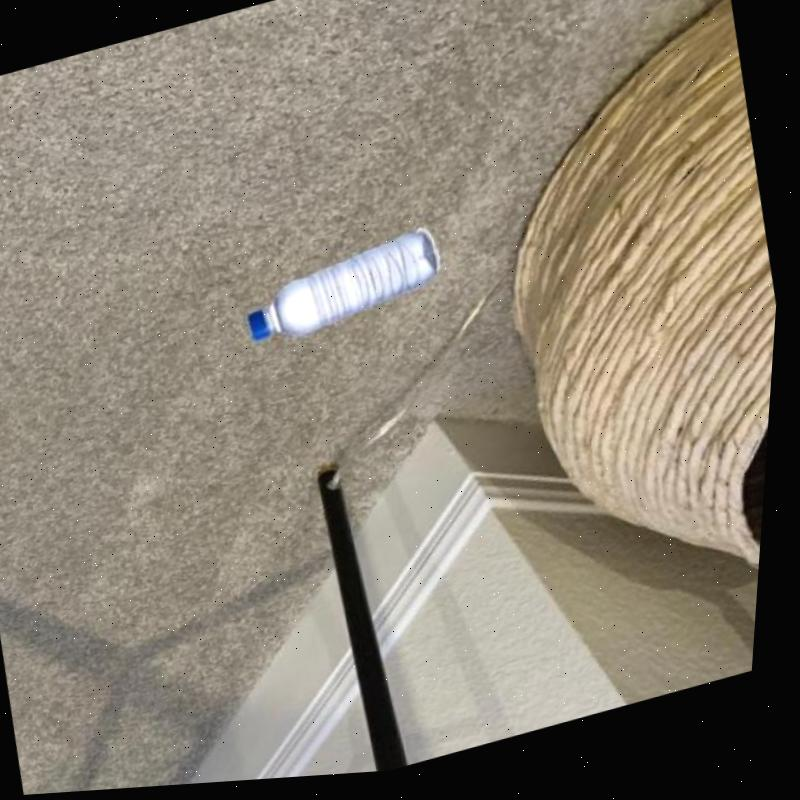botella: (242, 233, 451, 356)
